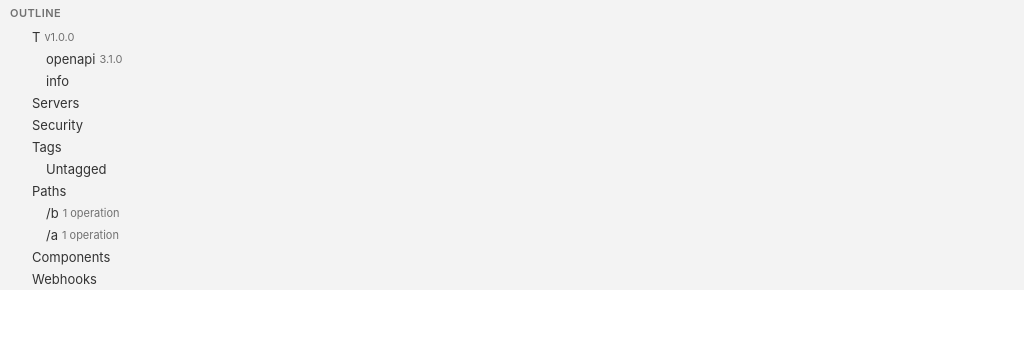
Scenario: OpenApiOutlineTree › context menu (Phase 4) › disables edit entries but not Copy JSON Pointer while hasErrors
Right-click the list item "/b 1 operation": (71, 213) [22,205,120,221]
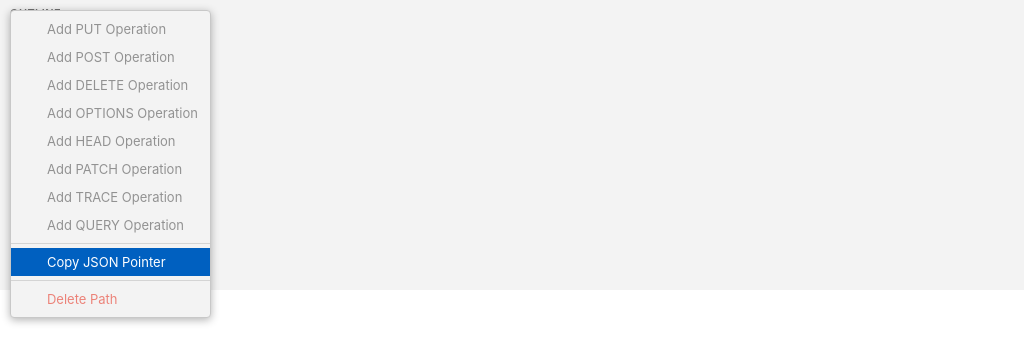
expect the menu item "Add POST Operation" is disabled: met, box [11,43,210,71]
expect the menu item "Delete Path" is disabled: met, box [11,285,210,313]
expect the menu item "Copy JSON Pointer" is enabled: met, box [11,248,210,276]
